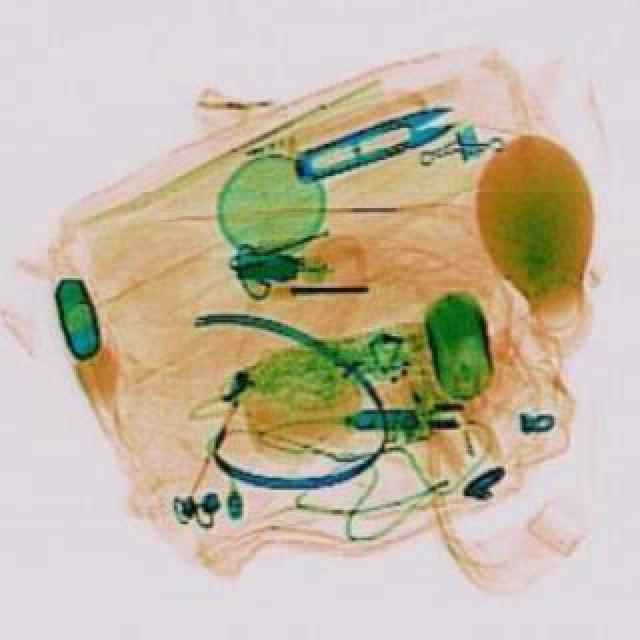pliers: (294, 104, 468, 194)
